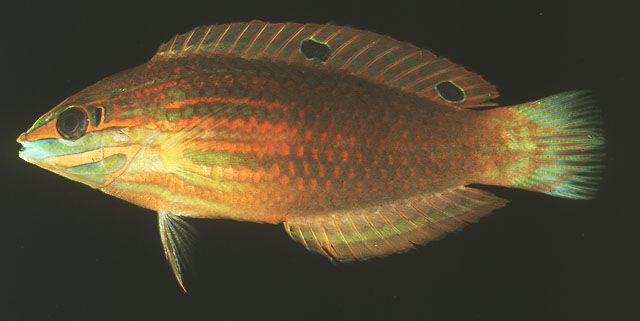fish: (16, 19, 606, 294)
